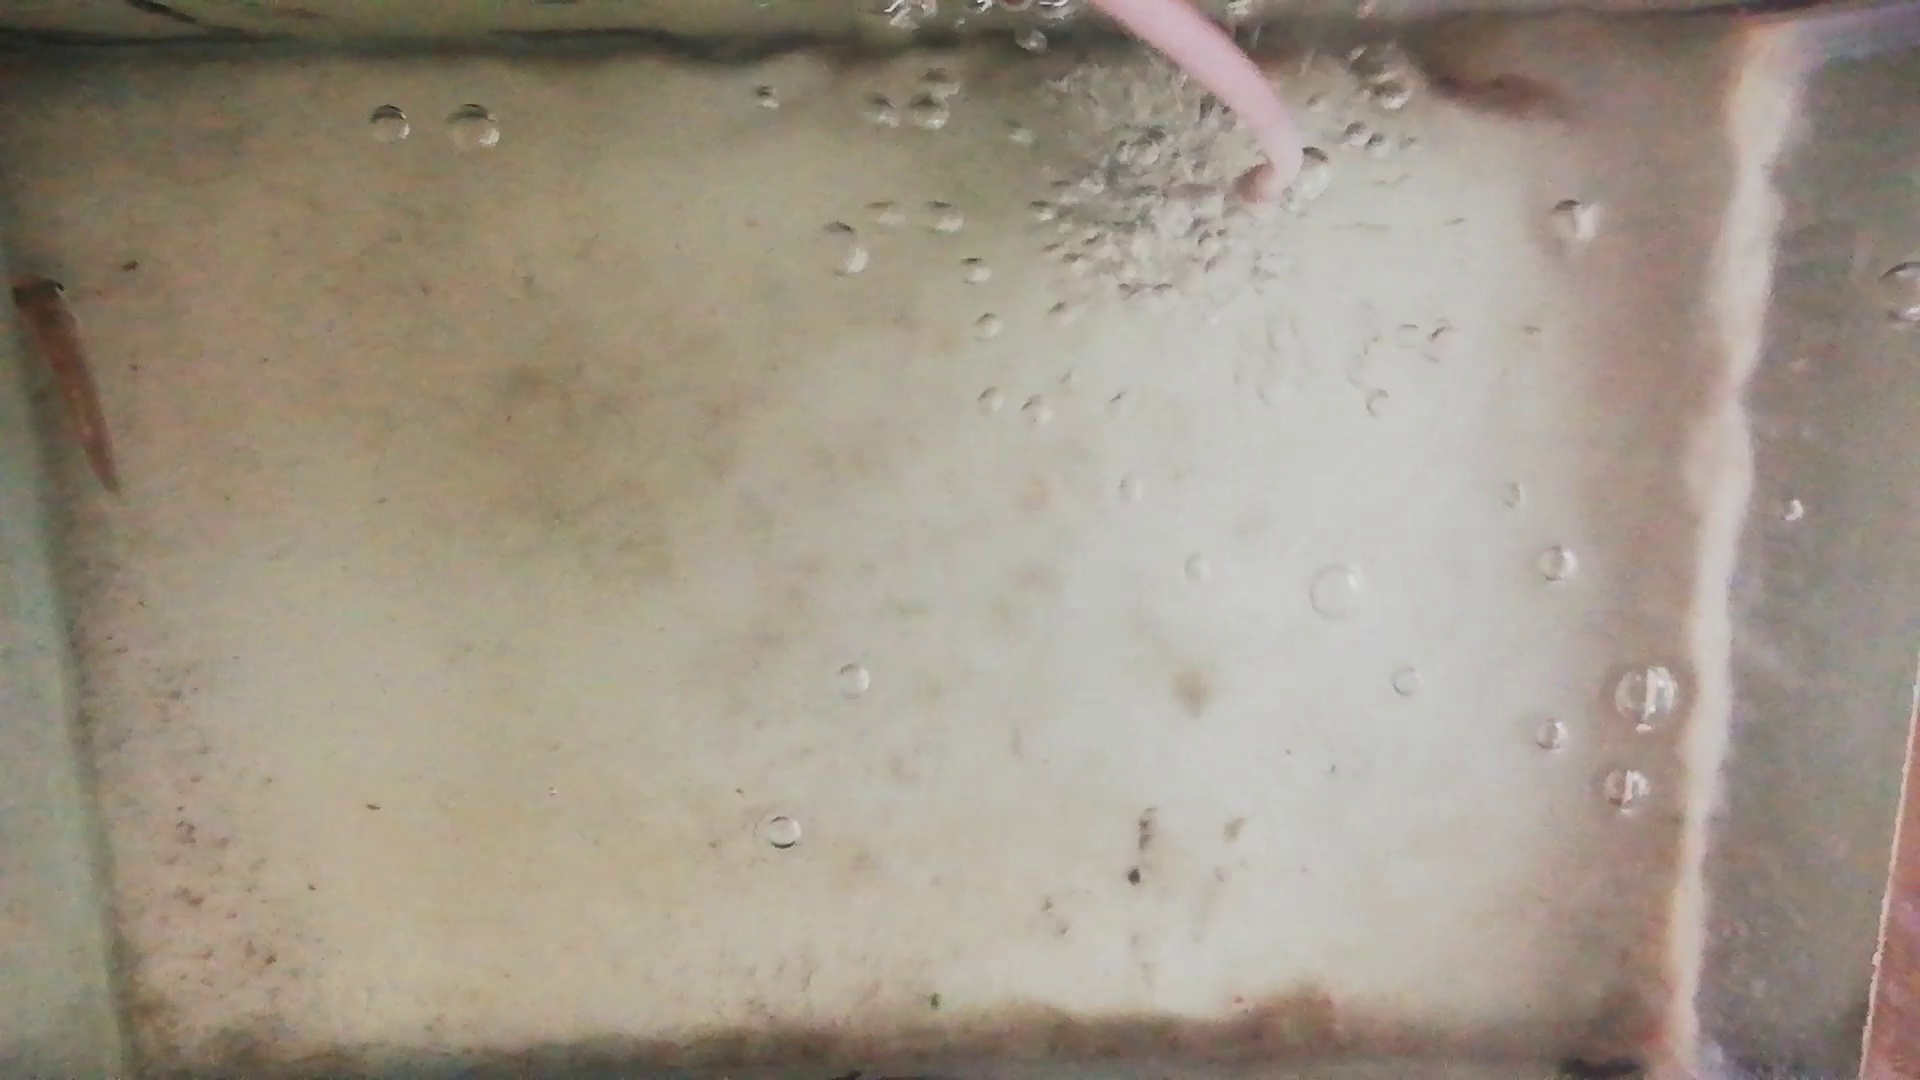fish: (15, 277, 124, 491), (1404, 55, 1571, 121)
